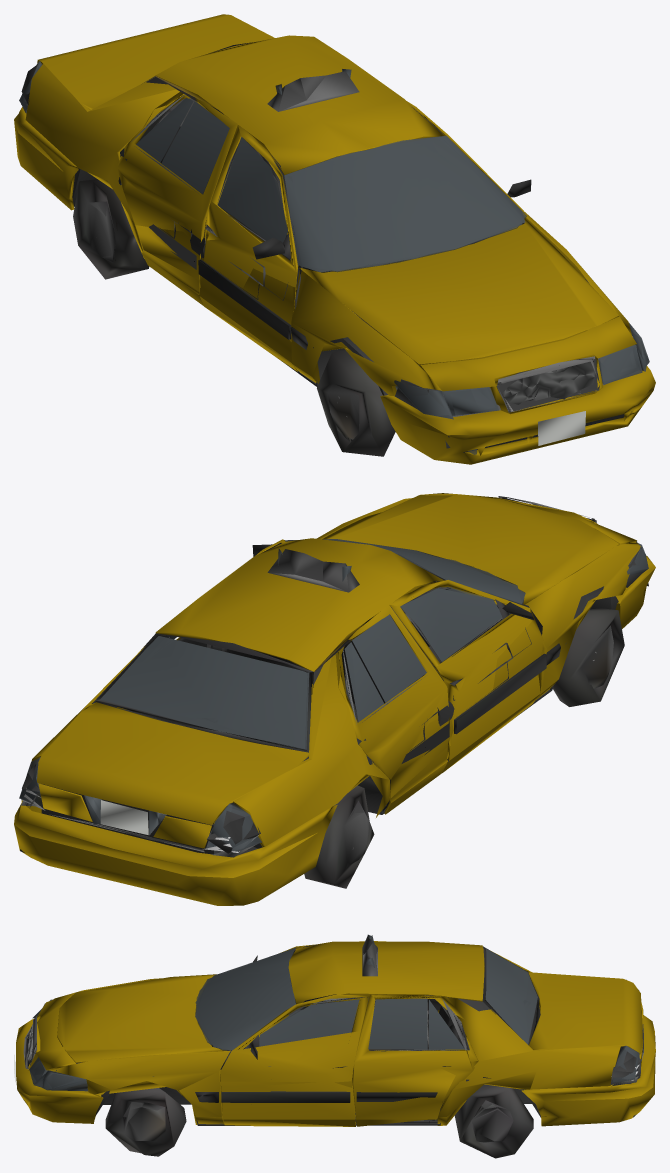
The picture shows the model from 3 angles, top to bottom: view 1: azimuth 30°, elevation 25°; view 2: azimuth 150°, elevation 25°; view 3: azimuth 270°, elevation 25°; orthographic projection. The views are drawn at different scales.
Parts seen in each view (by area): view 1: body, glass, wheel_FL, wheel_RL; view 2: body, glass, wheel_FL, wheel_RL; view 3: body, glass, wheel_RR, wheel_FR.
Boxes of the visible parts, x1,y1,x2,y2 form: body: (14,14,655,464); glass: (19,61,649,454); wheel_FL: (317,350,395,456); wheel_RL: (73,179,149,279); body: (14,493,655,905); glass: (19,539,648,851); wheel_FL: (553,608,624,706); wheel_RL: (304,785,374,888); body: (14,936,655,1126); glass: (29,934,642,1091); wheel_RR: (454,1084,533,1158); wheel_FR: (105,1088,186,1156).
Bounding box in the file's own units: 1.92 × 1.57 × 5.36.
